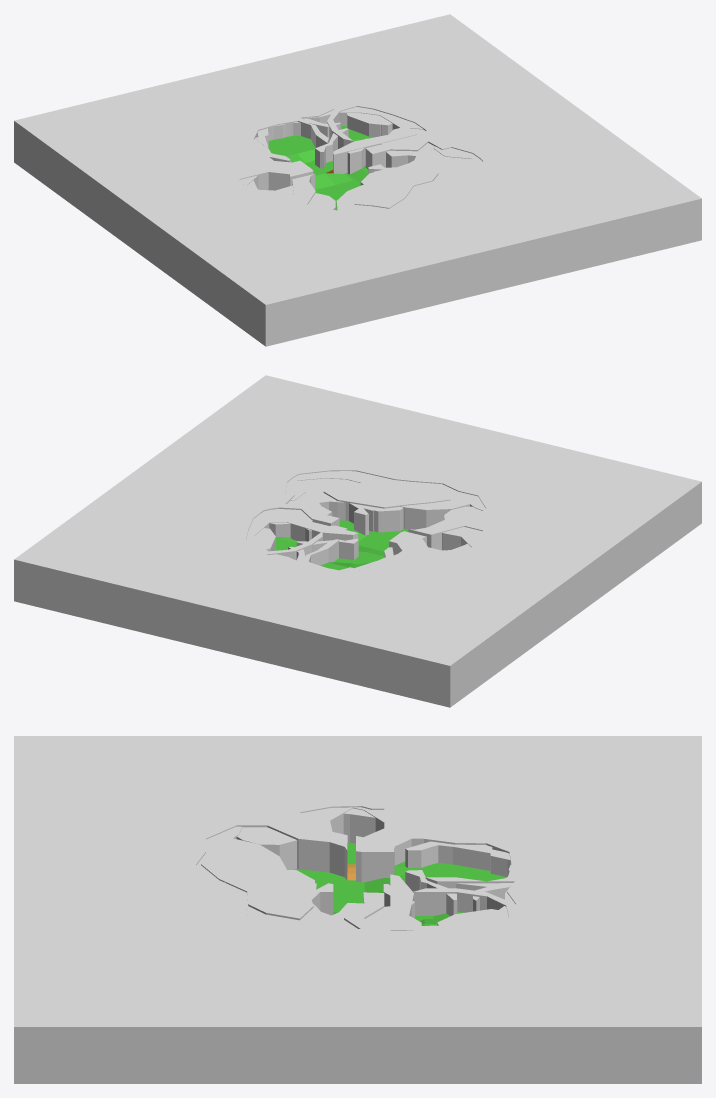
Rendered from islands.fbx.
3 views of the same model, one above another, from view 1: azimuth 30°, elevation 25°; view 2: azimuth 150°, elevation 25°; view 3: azimuth 270°, elevation 25° (orthographic). The views are drawn at different scales.
Visible parts, largest first — view 1: barier3, barier1, barier2, ISLAND3, ISLAND2; view 2: barier3, barier1, barier2, ISLAND2; view 3: barier3, barier1, barier2, ISLAND2, ISLAND3.
Part boxes in pixels (<box>): barier3: <box>14,14,701,344</box>; barier1: <box>14,113,701,337</box>; barier2: <box>14,107,701,346</box>; ISLAND3: <box>268,126,375,189</box>; ISLAND2: <box>305,160,360,210</box>; barier3: <box>14,375,701,706</box>; barier1: <box>14,478,701,698</box>; barier2: <box>14,471,701,707</box>; ISLAND2: <box>334,528,408,564</box>; barier3: <box>14,736,701,1081</box>; barier1: <box>14,808,701,1071</box>; barier2: <box>14,807,701,1083</box>; ISLAND2: <box>294,842,433,921</box>; ISLAND3: <box>347,861,506,925</box>.
Bounding box in the file's own units: 200 × 19.44 × 200.
